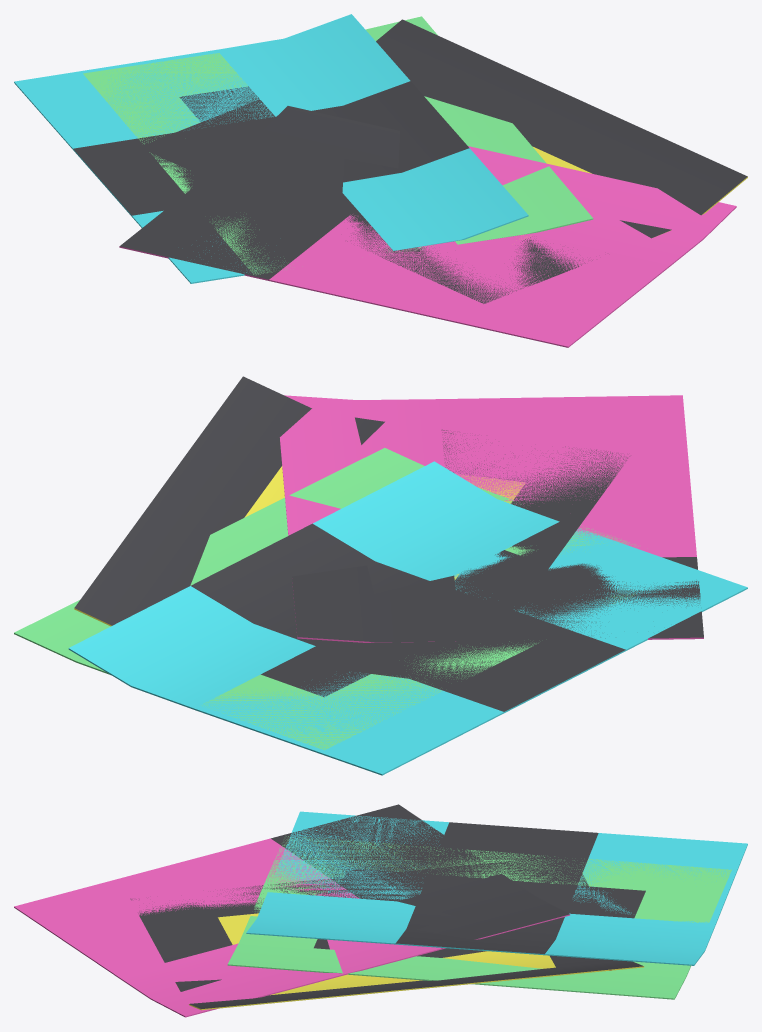
File: paper_flyers_a.fbx
3 views of the same model, one above another, from view 1: azimuth 30°, elevation 25°; view 2: azimuth 150°, elevation 25°; view 3: azimuth 270°, elevation 25° (orthographic). The views are drawn at different scales.
Parts seen in each view (by area): view 1: paper_flyers_a; view 2: paper_flyers_a; view 3: paper_flyers_a.
Boxes of the visible parts, x1,y1,x2,y2 form: paper_flyers_a: [14, 14, 747, 347]; paper_flyers_a: [14, 376, 747, 775]; paper_flyers_a: [14, 804, 747, 1017].
Bounding box in the file's own units: 0.1744 × 0.00814 × 0.2391.
